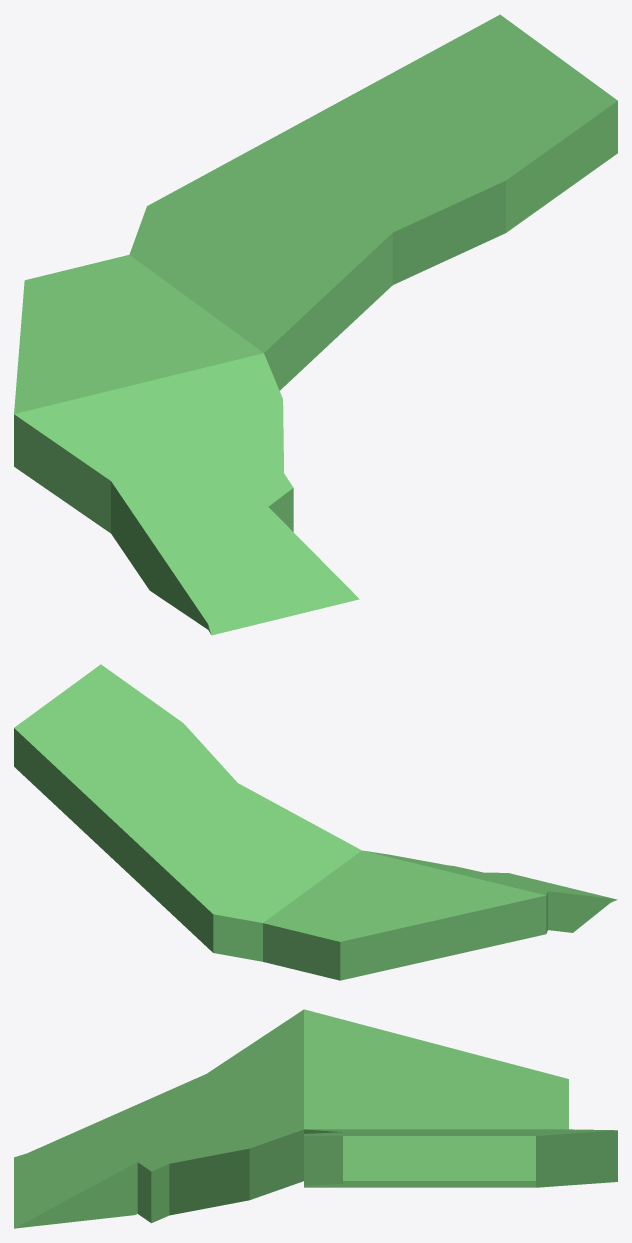
The model's file is x_lock_BIGMICRO_skala_part4_1_rmstrd.fbx.
3 renders of one model, top to bottom at view 1: azimuth 30°, elevation 25°; view 2: azimuth 150°, elevation 25°; view 3: azimuth 270°, elevation 25°, orthographic. The views are drawn at different scales.
Visible parts, largest first — view 1: x_lock_BIGMICRO_skala_part4_1_rmstrd1; view 2: x_lock_BIGMICRO_skala_part4_1_rmstrd1; view 3: x_lock_BIGMICRO_skala_part4_1_rmstrd1.
Boxes of the visible parts, <box> form: x_lock_BIGMICRO_skala_part4_1_rmstrd1: <box>14,14,617,635</box>; x_lock_BIGMICRO_skala_part4_1_rmstrd1: <box>14,664,617,980</box>; x_lock_BIGMICRO_skala_part4_1_rmstrd1: <box>14,1009,617,1228</box>.
Size of the model in its own units: 12.95 by 5.98 by 11.39.
